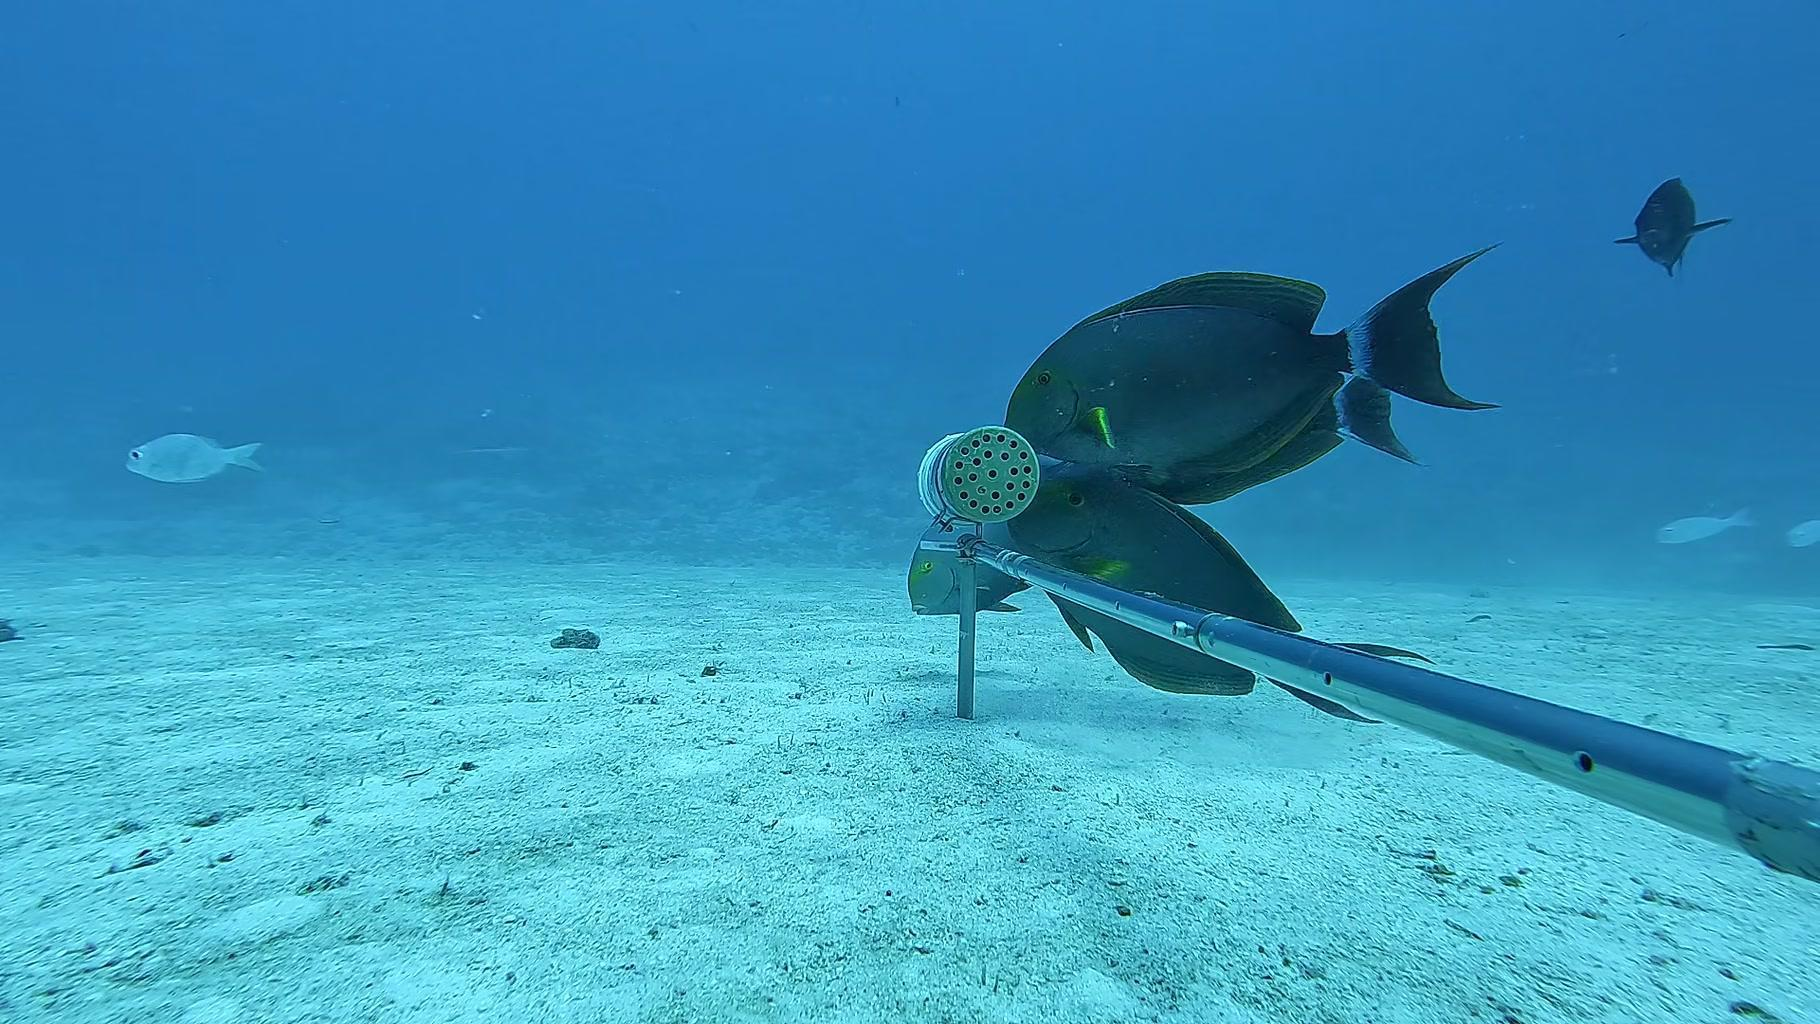fish: (986, 195, 1502, 529), (1015, 471, 1466, 726), (1595, 156, 1751, 306), (101, 404, 280, 518), (1641, 480, 1762, 571), (907, 518, 1010, 619)
